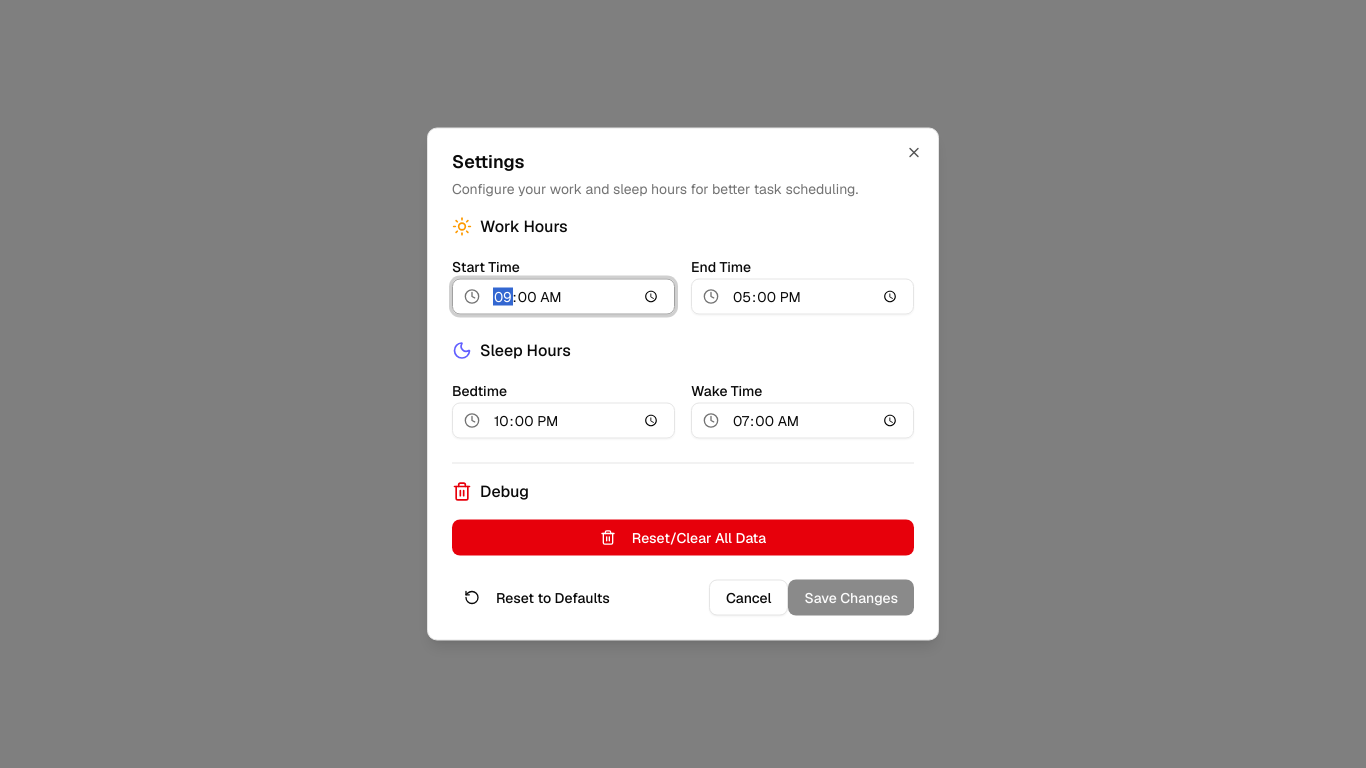
Test case: Dialog Keyboard Navigation › SettingsModal - Keyboard Navigation › activates reset defaults button with keyboard
Expected: the form with test id "settings-form" is shown, [452,214,914,616]
Change a value first
Replace the text in the time field with test id "work-hours-start-input" with "08:00" at [564, 296], box [452,278,675,314]
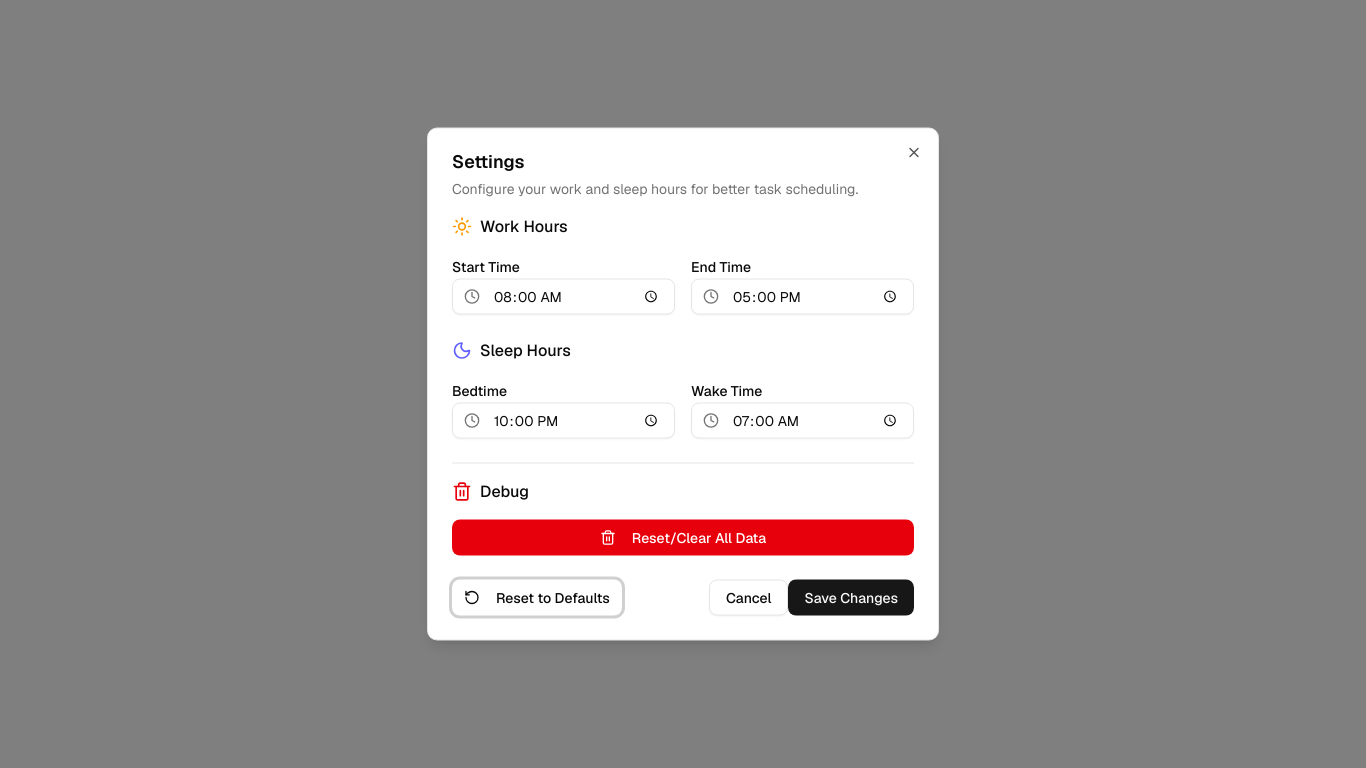
Press Enter
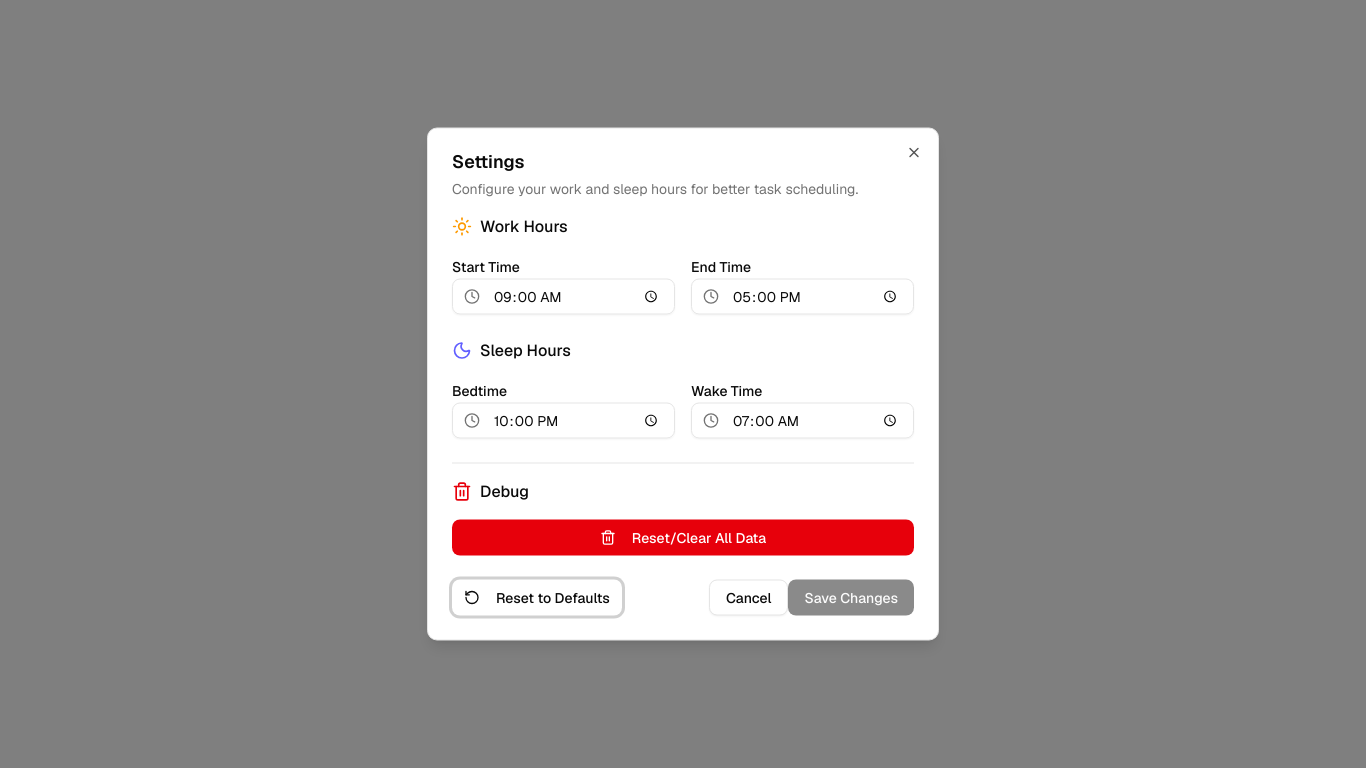
Expected: the time field with test id "work-hours-start-input" holds "09:00", [452,278,675,314]
